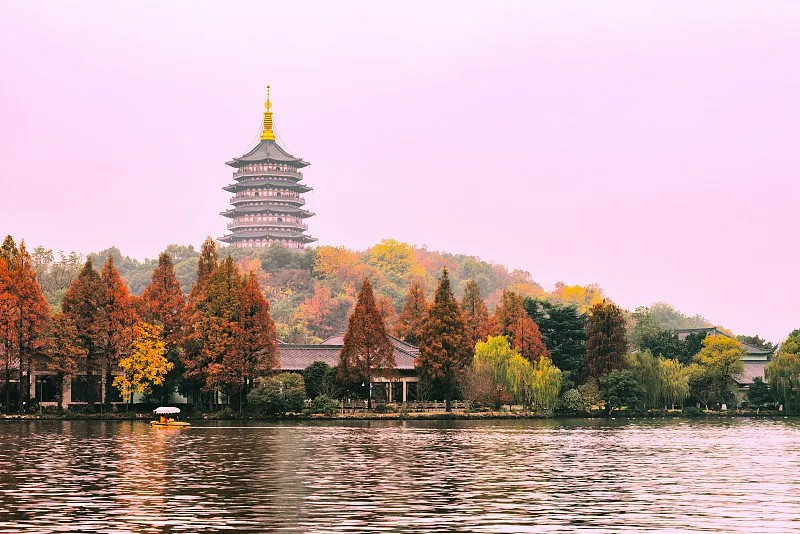Leifeng: (215, 82, 319, 253)
